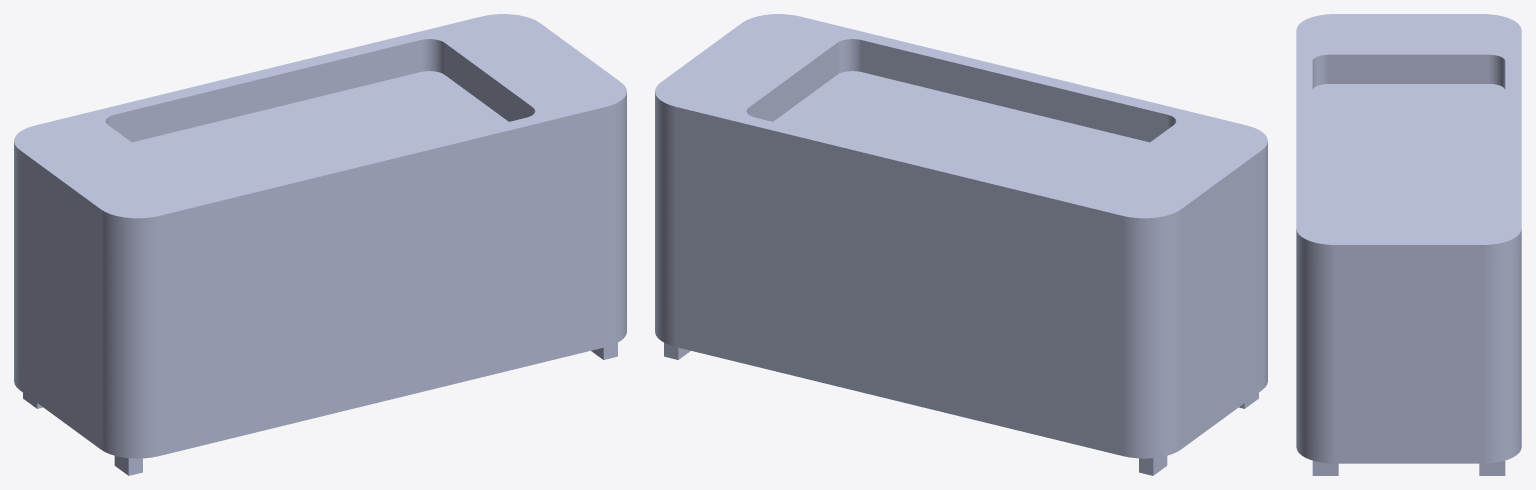
3 views of the same model, side by side, from view 1: azimuth 30°, elevation 25°; view 2: azimuth 150°, elevation 25°; view 3: azimuth 270°, elevation 25° (orthographic). The views are drawn at different scales.
Parts seen in each view (by area): view 1: mesh 1 base_co; view 2: mesh 1 base_co; view 3: mesh 1 base_co.
Part boxes in pixels (left/top/right/bottom): mesh 1 base_co: left=14, top=14, right=626, bottom=475; mesh 1 base_co: left=655, top=14, right=1267, bottom=475; mesh 1 base_co: left=1296, top=14, right=1521, bottom=475.
Bounding box in the file's own units: 1.7 × 0.8162 × 0.7.
